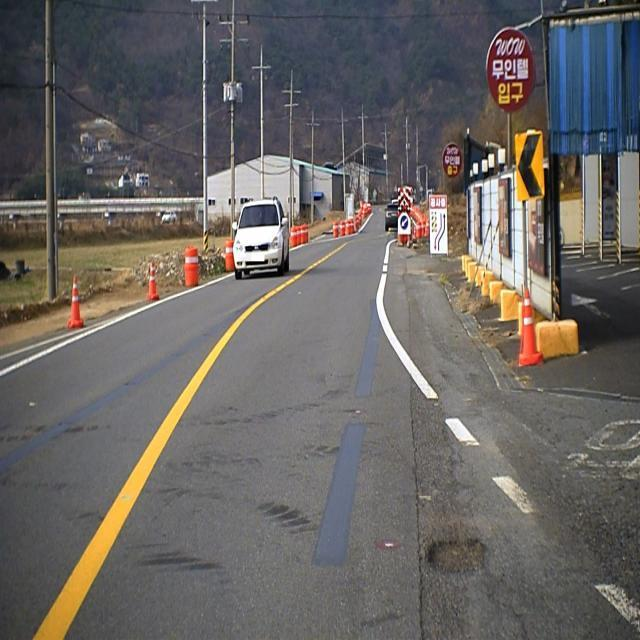Buraco: (422, 536, 490, 576)
